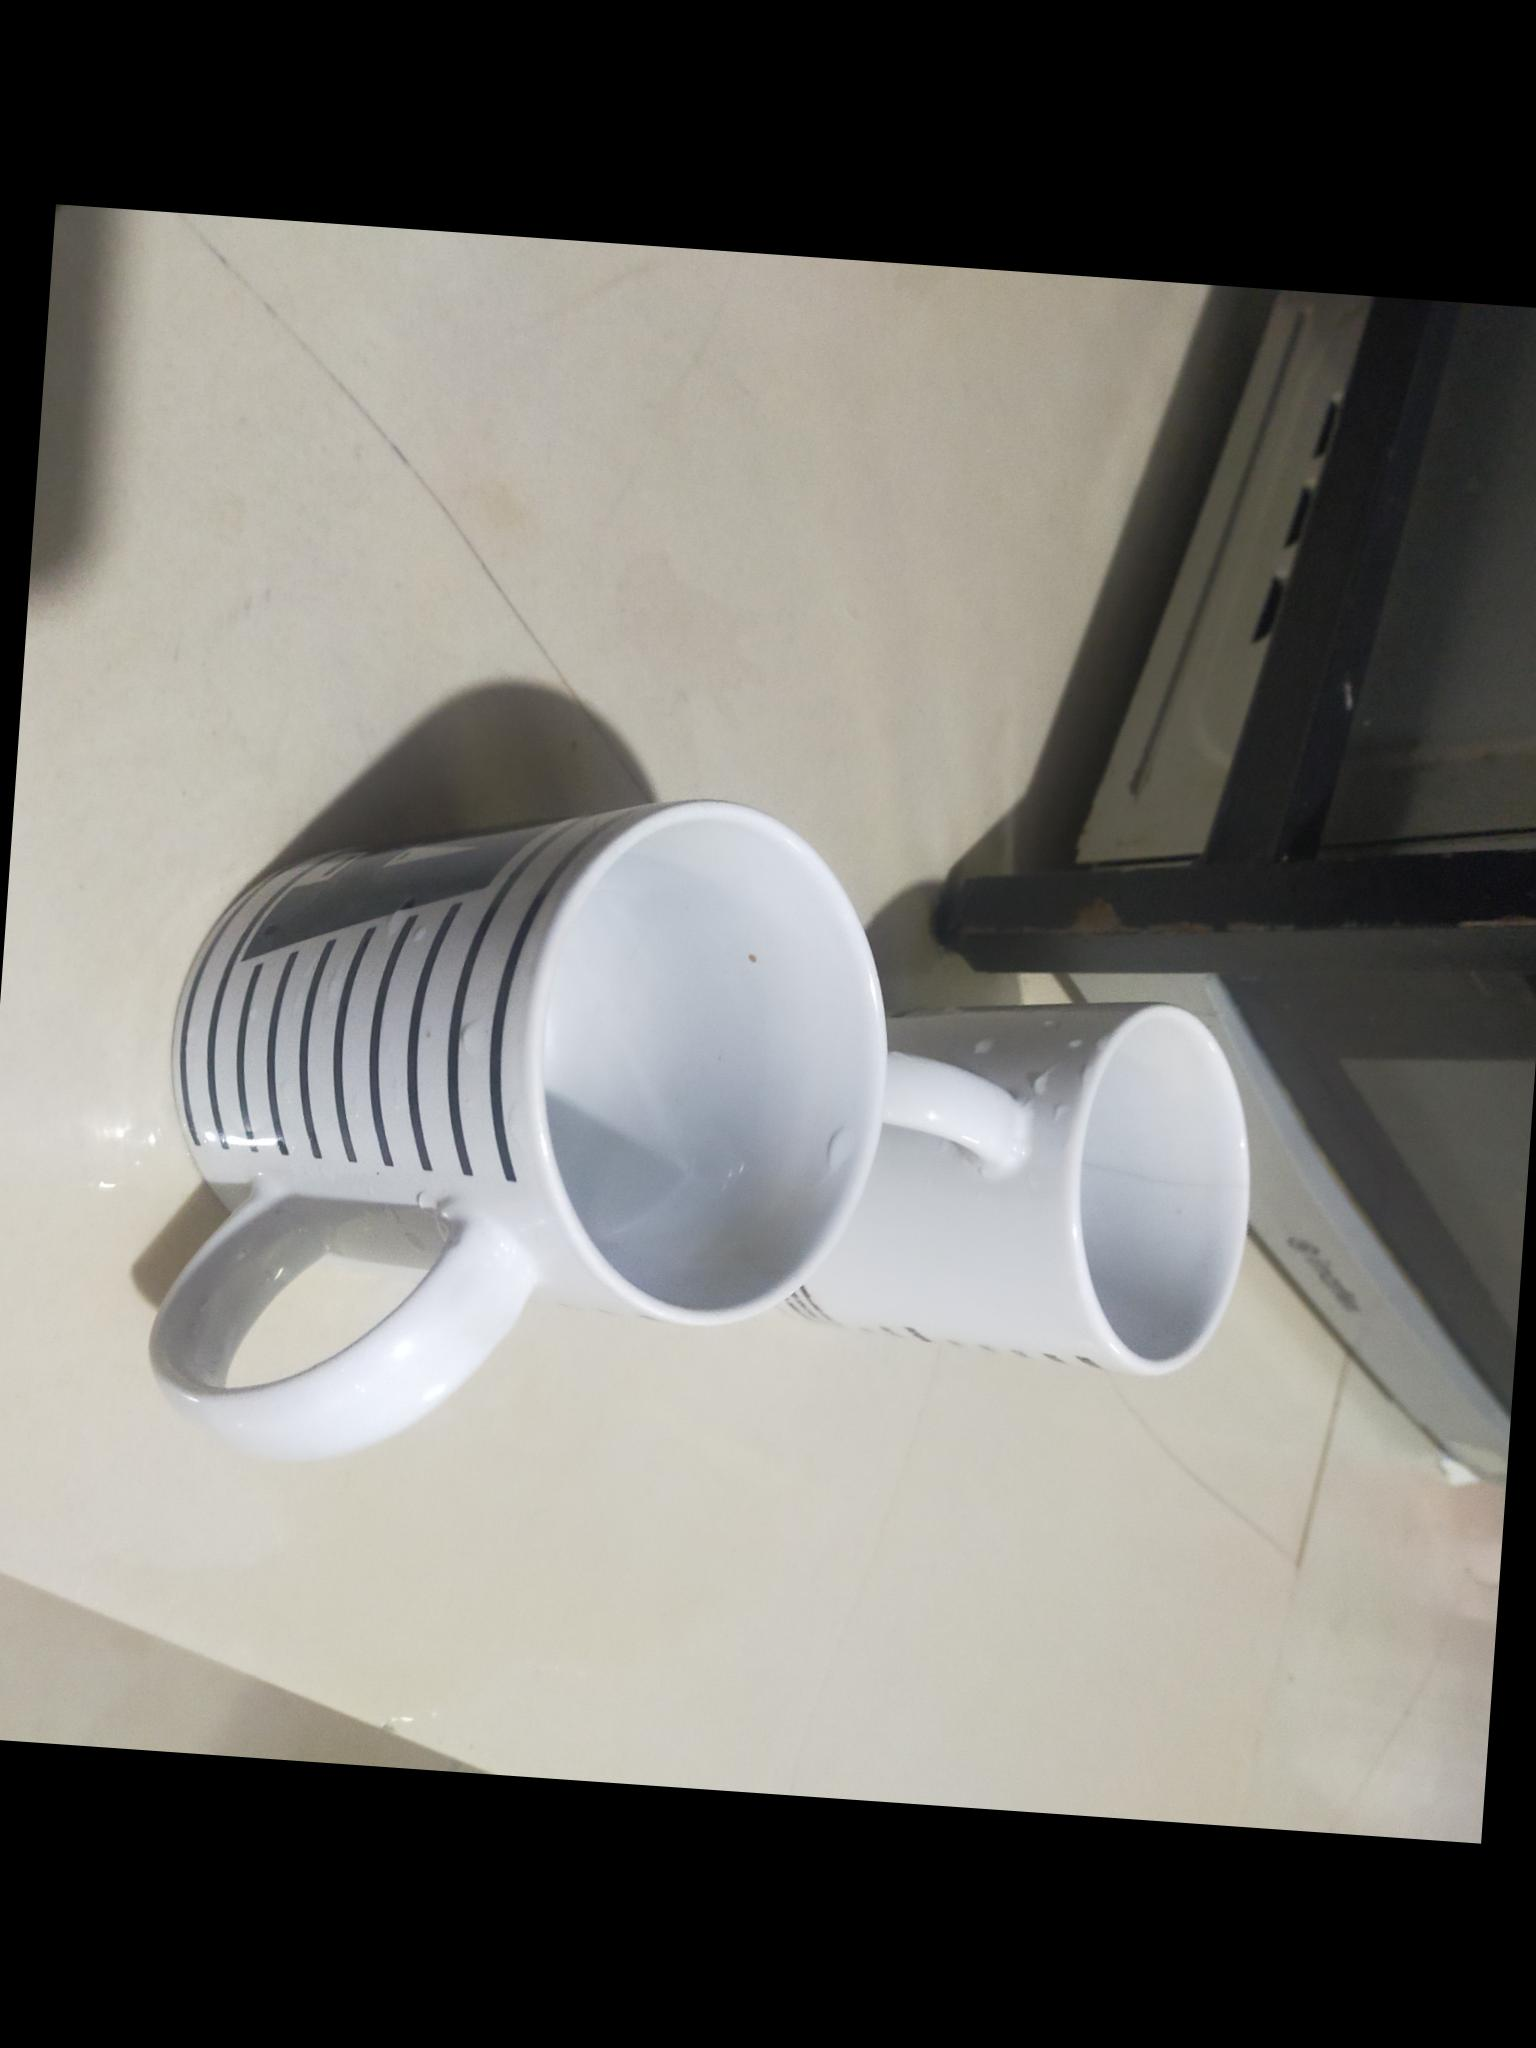Coffee Mug: (139, 760, 900, 1493), (786, 980, 1258, 1379)
